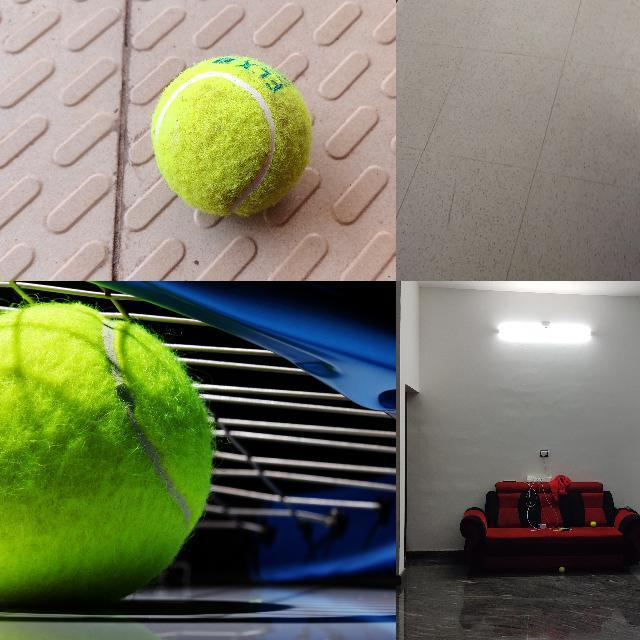tennis-ball: (0, 302, 214, 604), (151, 57, 311, 216), (590, 521, 596, 527), (558, 566, 564, 572)
